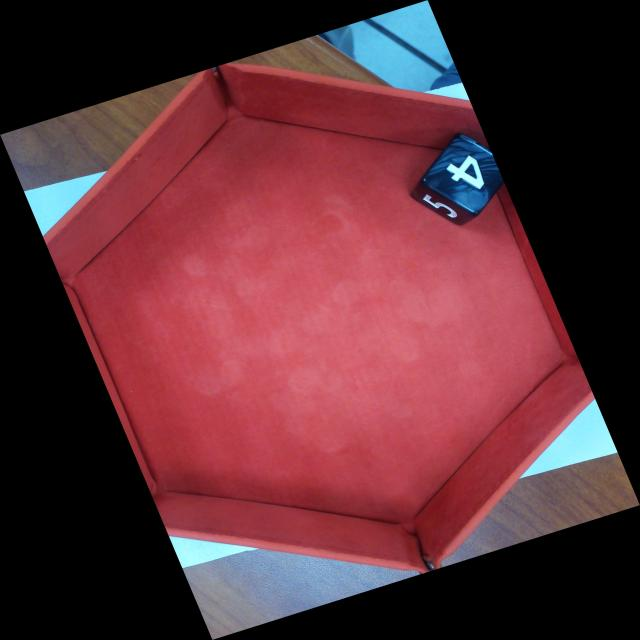dice: (428, 135, 505, 210)
